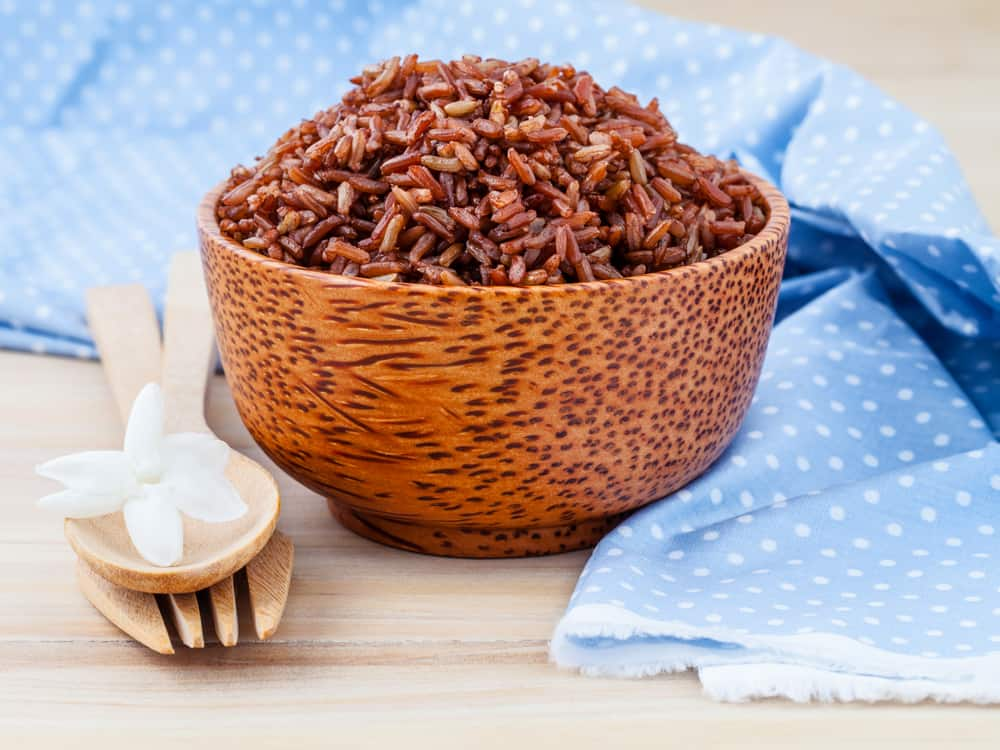Nasi Merah: (201, 55, 801, 366)
